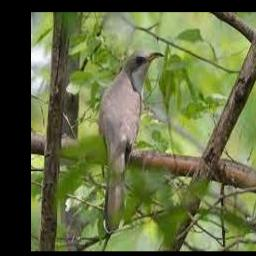Cuckoo: (98, 52, 164, 233)
